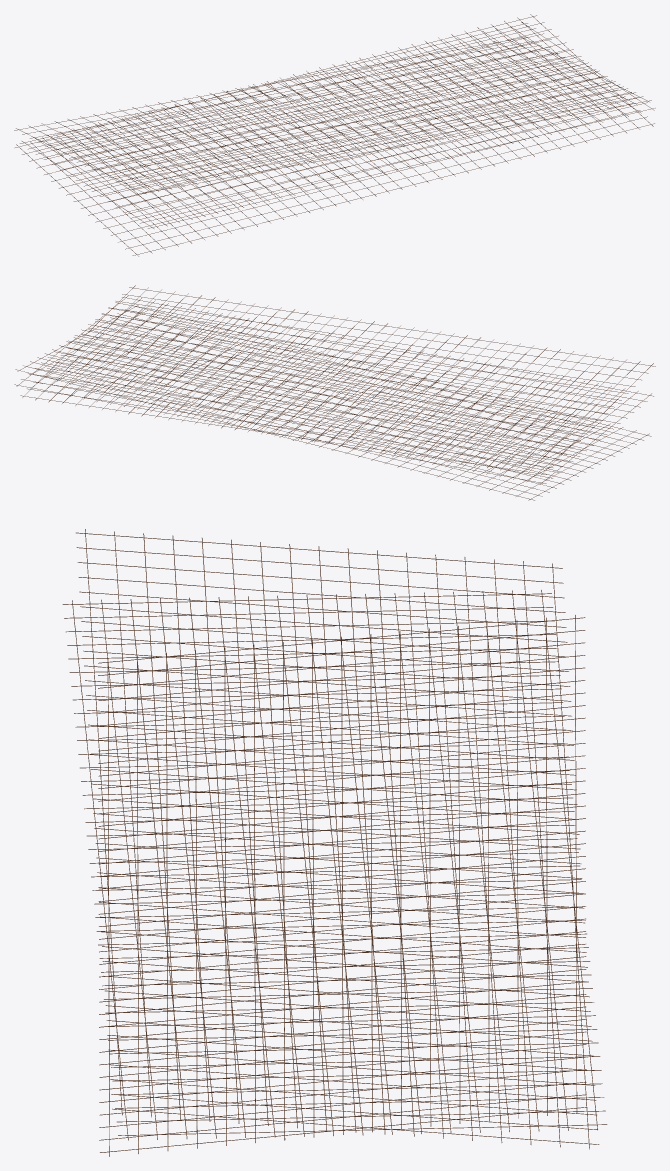
The model's file is EST-TEL-001_anim.glb.
The picture shows the model from 3 angles, top to bottom: view 1: azimuth 30°, elevation 25°; view 2: azimuth 150°, elevation 25°; view 3: azimuth 270°, elevation 25°; orthographic projection. The views are drawn at different scales.
Visible parts, largest first — view 1: EST-TEL-001_anim2, EST-TEL-001_anim1, EST-TEL-001_anim0; view 2: EST-TEL-001_anim2, EST-TEL-001_anim1, EST-TEL-001_anim0; view 3: EST-TEL-001_anim2, EST-TEL-001_anim1, EST-TEL-001_anim0.
Boxes of the visible parts, x1,y1,x2,y2 form: EST-TEL-001_anim2: (14, 36, 651, 193); EST-TEL-001_anim1: (20, 22, 655, 228); EST-TEL-001_anim0: (15, 14, 654, 256); EST-TEL-001_anim2: (20, 285, 655, 475); EST-TEL-001_anim1: (14, 296, 653, 484); EST-TEL-001_anim0: (15, 305, 651, 500); EST-TEL-001_anim2: (76, 529, 599, 1149); EST-TEL-001_anim1: (62, 590, 607, 1140); EST-TEL-001_anim0: (98, 615, 586, 1156).
Bounding box in the file's own units: 6.13 × 0.7306 × 2.72.
1 material, 1 textured.
